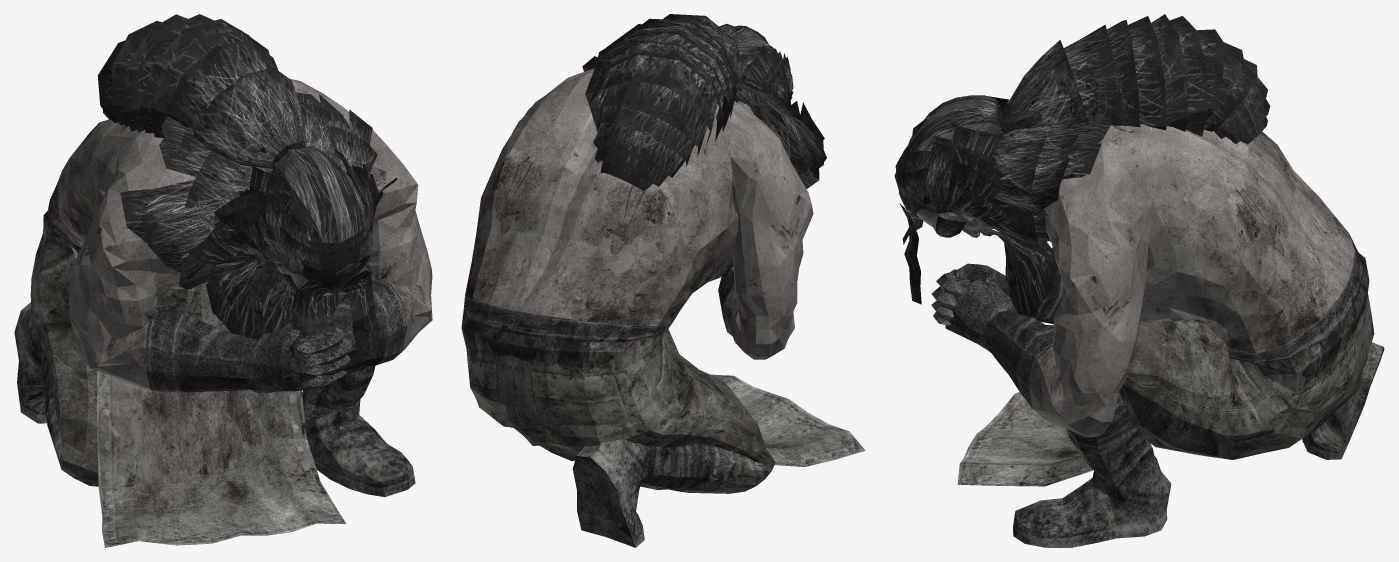
Rendered from BlacksmithStatue.fbx.
3 views of the same model, side by side, from view 1: azimuth 30°, elevation 25°; view 2: azimuth 150°, elevation 25°; view 3: azimuth 270°, elevation 25° (orthographic). The views are drawn at different scales.
Visible parts, largest first — view 1: o0503_Mesh; view 2: o0503_Mesh; view 3: o0503_Mesh.
Boxes of the visible parts, x1,y1,x2,y2 form: o0503_Mesh: (14, 14, 432, 547); o0503_Mesh: (461, 14, 865, 547); o0503_Mesh: (894, 14, 1384, 547).
Bounding box in the file's own units: 129 × 157 × 155.
3 materials, 3 textured.
